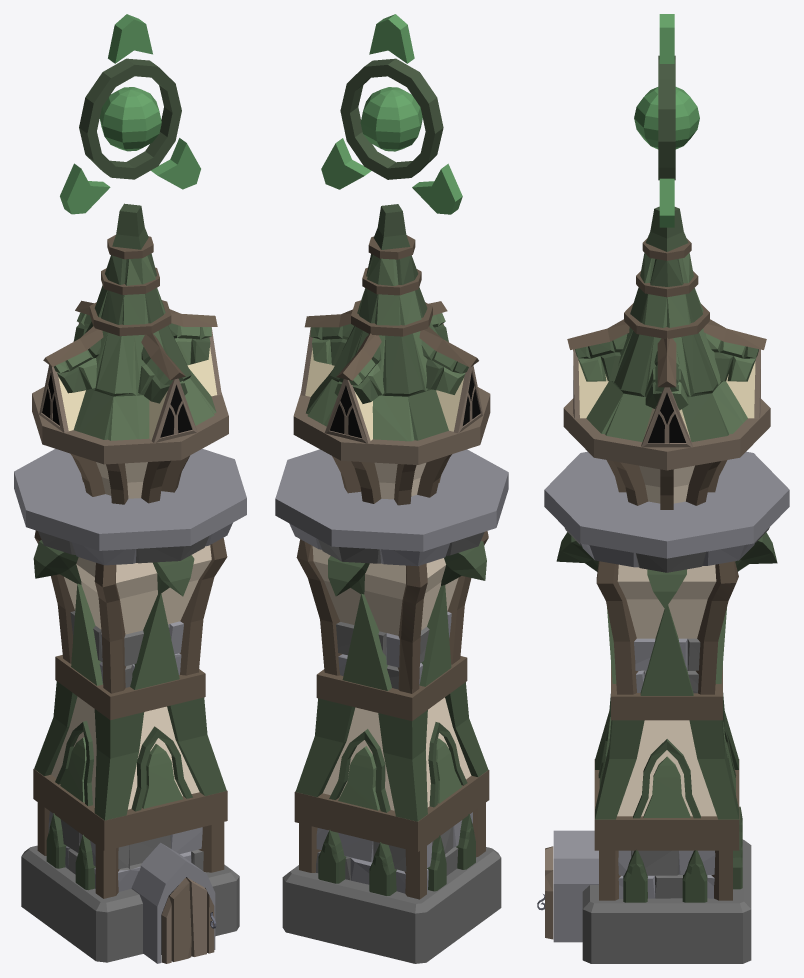
The model's file is Wizard Tower 4.obj.
3 views of the same model, side by side, from view 1: azimuth 30°, elevation 25°; view 2: azimuth 150°, elevation 25°; view 3: azimuth 270°, elevation 25° (orthographic).
Parts seen in each view (by area): view 1: Wizard_tower_LVL_4; view 2: Wizard_tower_LVL_4; view 3: Wizard_tower_LVL_4.
Part boxes in pixels (x1,y1,x2,y2): Wizard_tower_LVL_4: [14, 14, 246, 963]; Wizard_tower_LVL_4: [275, 14, 508, 963]; Wizard_tower_LVL_4: [537, 14, 789, 963].
Bounding box in the file's own units: 5.52 × 22.72 × 5.68.
1 material, 1 textured.
